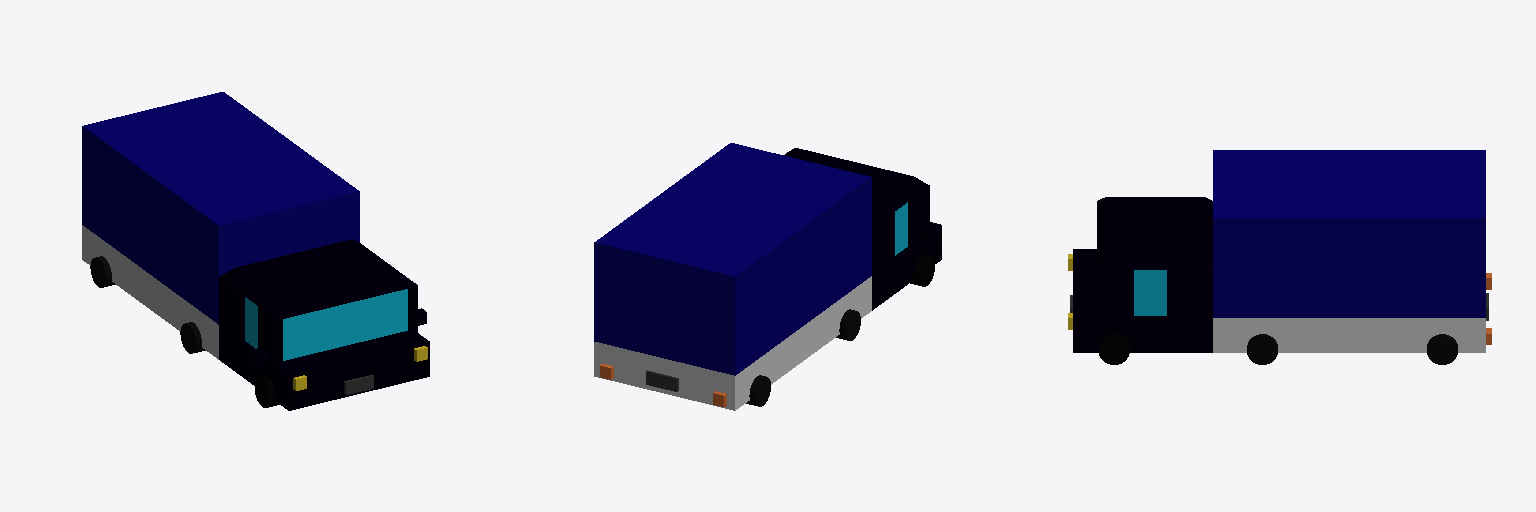
The model's file is truck.obj.
3 views of the same model, side by side, from view 1: azimuth 30°, elevation 25°; view 2: azimuth 150°, elevation 25°; view 3: azimuth 270°, elevation 25° (orthographic).
Parts seen in each view (by area): view 1: Cube.008, Cube.007, Cube, Cube.006, Cylinder.002, Cylinder.003, Cylinder; view 2: Cube.008, Cube.006, Cube.007, Cube, Cylinder.002, Cylinder.003, Cylinder; view 3: Cube.008, Cube.007, Cube.006, Cube, Cylinder.002, Cylinder.003, Cylinder.
Part boxes in pixels (bbox=[...]): Cube.008: bbox=[82, 92, 359, 348]; Cube.007: bbox=[219, 239, 429, 410]; Cube: bbox=[245, 289, 407, 360]; Cube.006: bbox=[82, 225, 218, 359]; Cylinder.002: bbox=[180, 322, 205, 353]; Cylinder.003: bbox=[90, 256, 115, 287]; Cylinder: bbox=[255, 376, 279, 407]; Cube.008: bbox=[594, 143, 910, 375]; Cube.006: bbox=[594, 276, 871, 410]; Cube.007: bbox=[784, 148, 941, 310]; Cube: bbox=[895, 202, 907, 255]; Cylinder.002: bbox=[836, 309, 860, 340]; Cylinder.003: bbox=[746, 375, 770, 406]; Cylinder: bbox=[910, 255, 934, 286]; Cube.008: bbox=[1213, 150, 1485, 317]; Cube.007: bbox=[1073, 197, 1212, 352]; Cube.006: bbox=[1213, 318, 1485, 352]; Cube: bbox=[1134, 270, 1166, 315]; Cylinder.002: bbox=[1247, 334, 1277, 364]; Cylinder.003: bbox=[1427, 334, 1457, 364]; Cylinder: bbox=[1099, 334, 1129, 364].
Bounding box in the file's own units: 4.55 × 3.61 × 9.63.